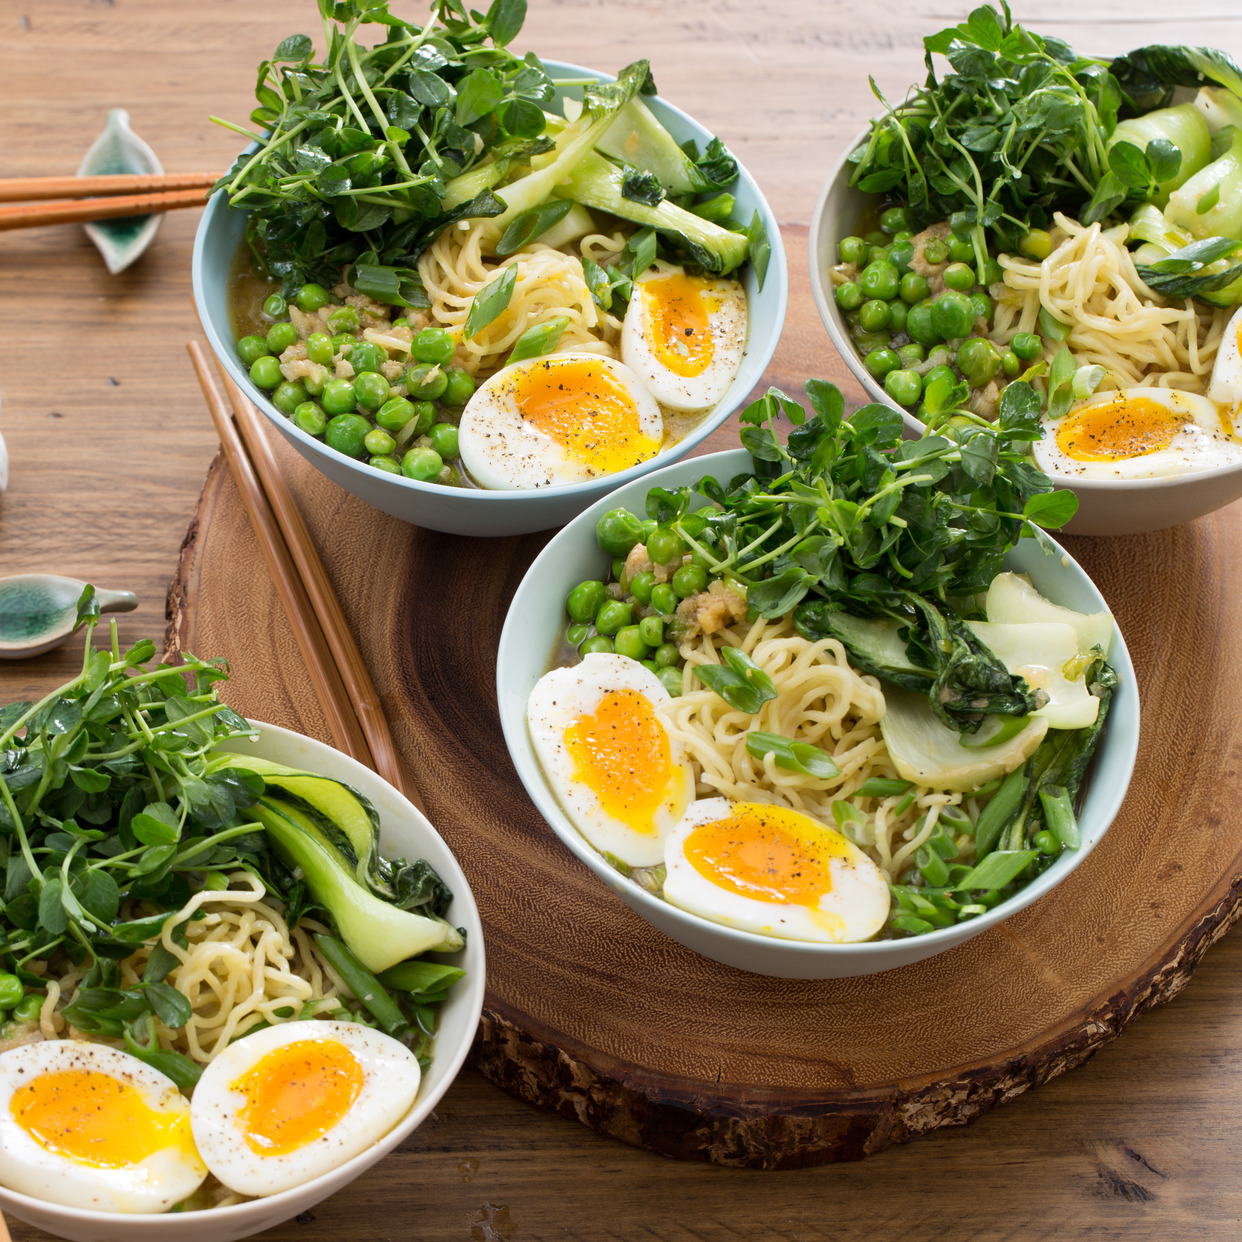boiled peas: (292, 345, 420, 455), (883, 274, 976, 392), (593, 530, 664, 627)
chopped lettuce: (301, 52, 673, 224), (67, 702, 389, 880), (773, 427, 1005, 599), (911, 64, 1217, 194)
fried egg: (5, 1049, 187, 1199), (183, 1033, 408, 1142), (550, 677, 689, 848), (686, 808, 870, 936), (498, 358, 636, 474), (651, 274, 732, 408), (1073, 383, 1217, 445)
